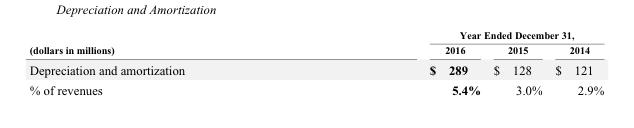table: (28, 28, 603, 97)
table column: (28, 28, 306, 97), (306, 28, 486, 97), (486, 28, 548, 97), (548, 28, 603, 97)
table column header: (28, 28, 603, 59)
table row: (28, 59, 603, 79), (28, 79, 603, 97), (28, 42, 603, 59), (28, 28, 603, 42)
table spanning cell: (28, 28, 306, 59), (306, 28, 603, 42)
